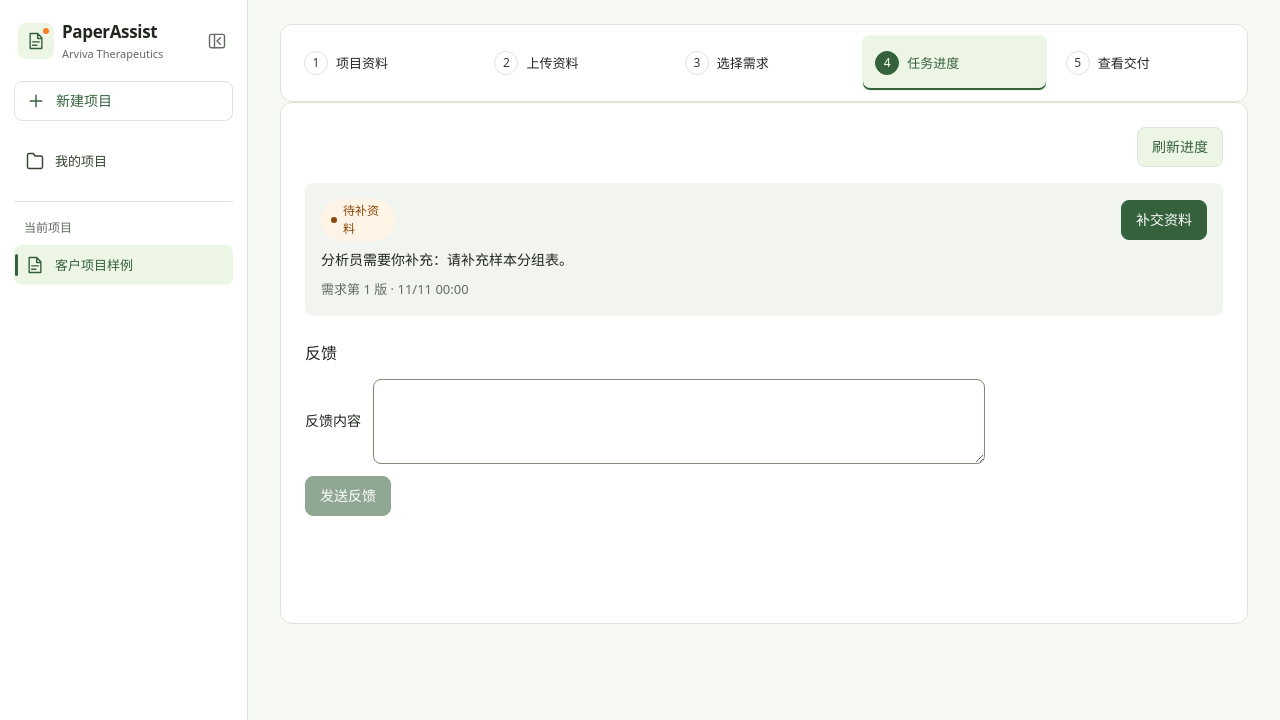
it: creates a customer project, opens five steps, and sends feedback on a published delivery
Earlier steps of the test are not shown.
Later steps or results of the test are not shown.
Expected: the text "待补资料" is shown, top-left (321, 199), bottom-right (395, 241)
Expected: the text "请补充样本分组表。" is shown, top-left (447, 250), bottom-right (573, 269)
Click the button "补交资料" at (1164,220), box top-left (1121, 200), bottom-right (1207, 240)
(page scrolled)
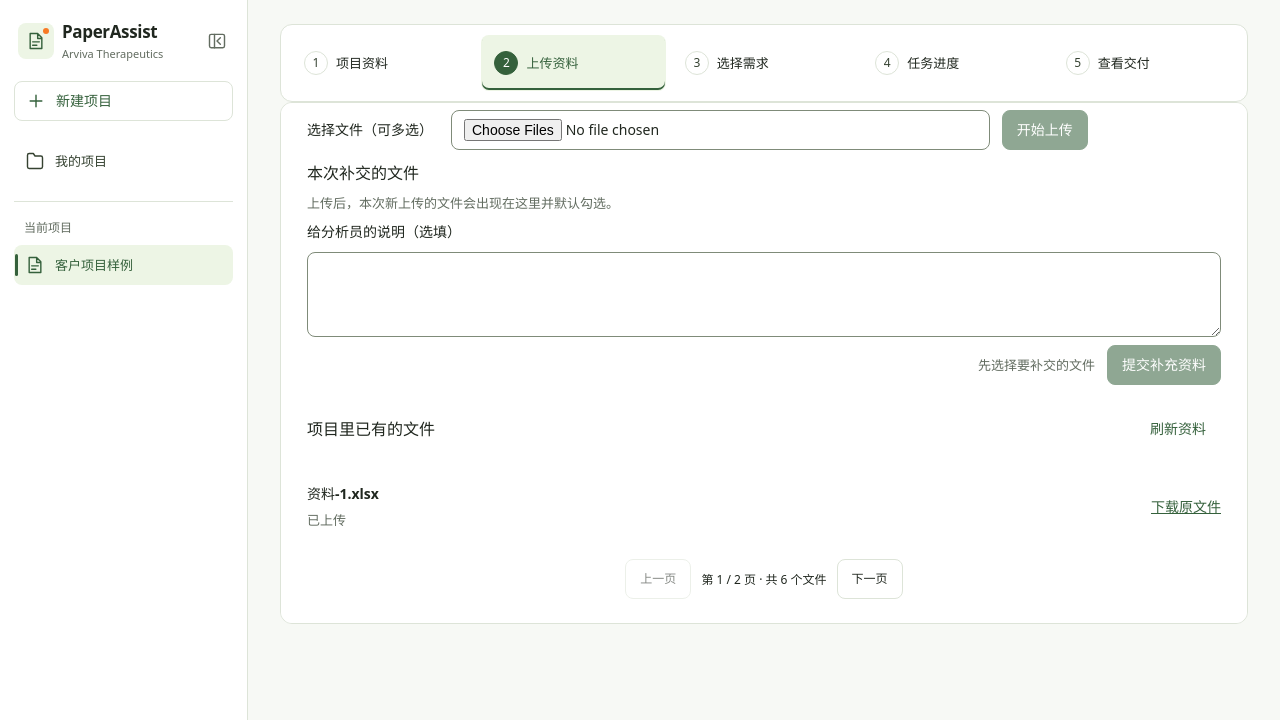
Click the button "下一页" at (870,579), box top-left (837, 559), bottom-right (903, 599)
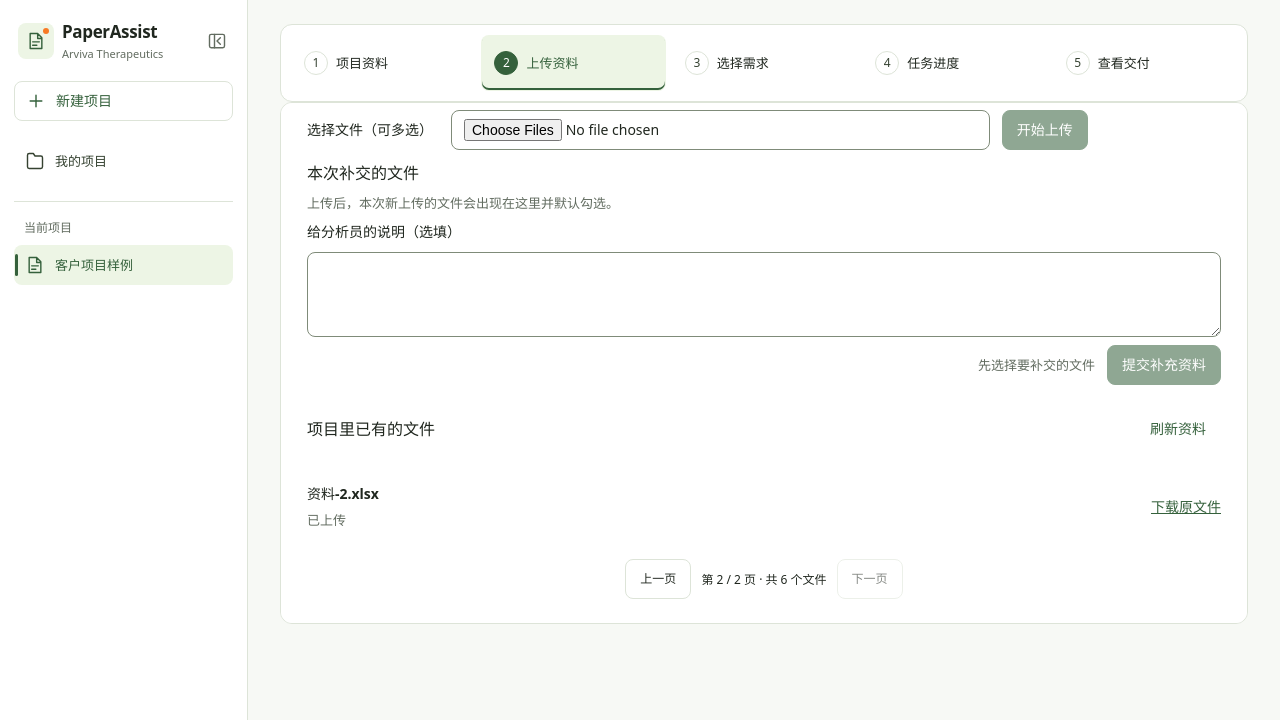
Result: the text "资料-2.xlsx" is shown at top-left (307, 484), bottom-right (379, 503)
Result: the text "第 2 / 2 页 · 共 6 个文件" is shown at top-left (701, 570), bottom-right (827, 589)
Click the button "5 查看交付" at (1145,63), box top-left (1053, 35), bottom-right (1237, 91)
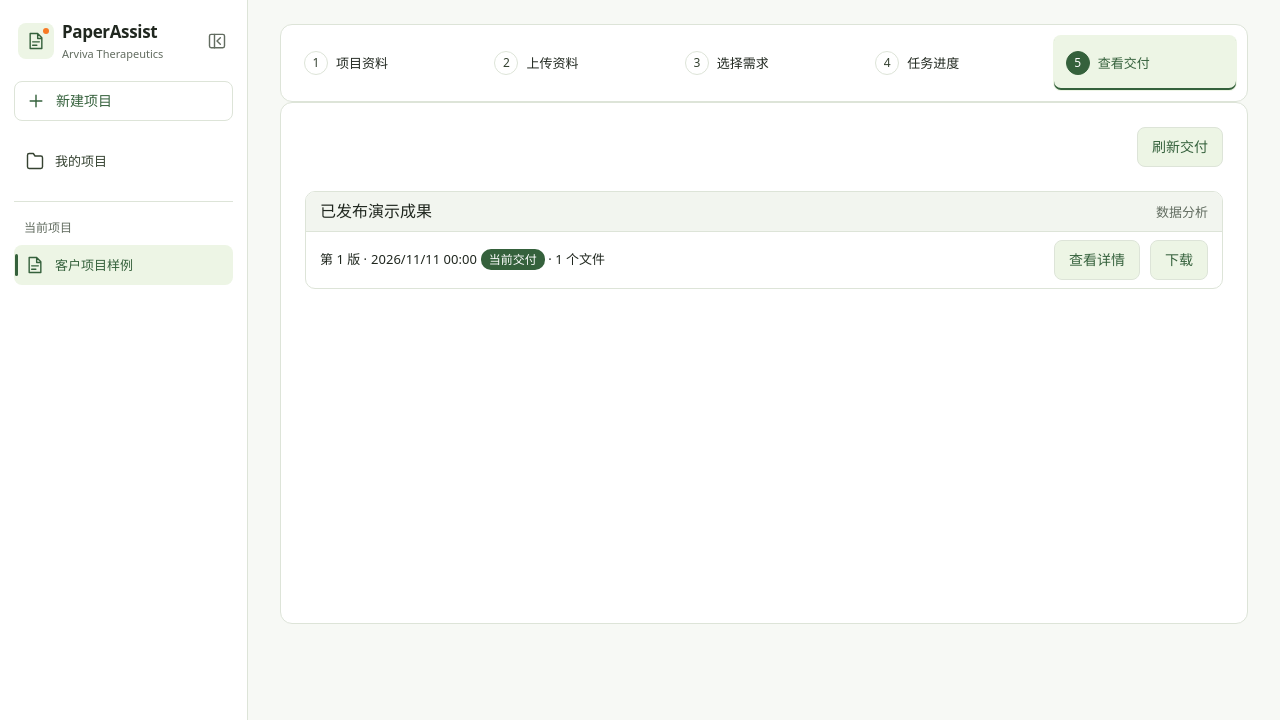
Click the button with aria-label "查看交付 已发布演示成果" at (1097,260), box top-left (1054, 240), bottom-right (1140, 280)
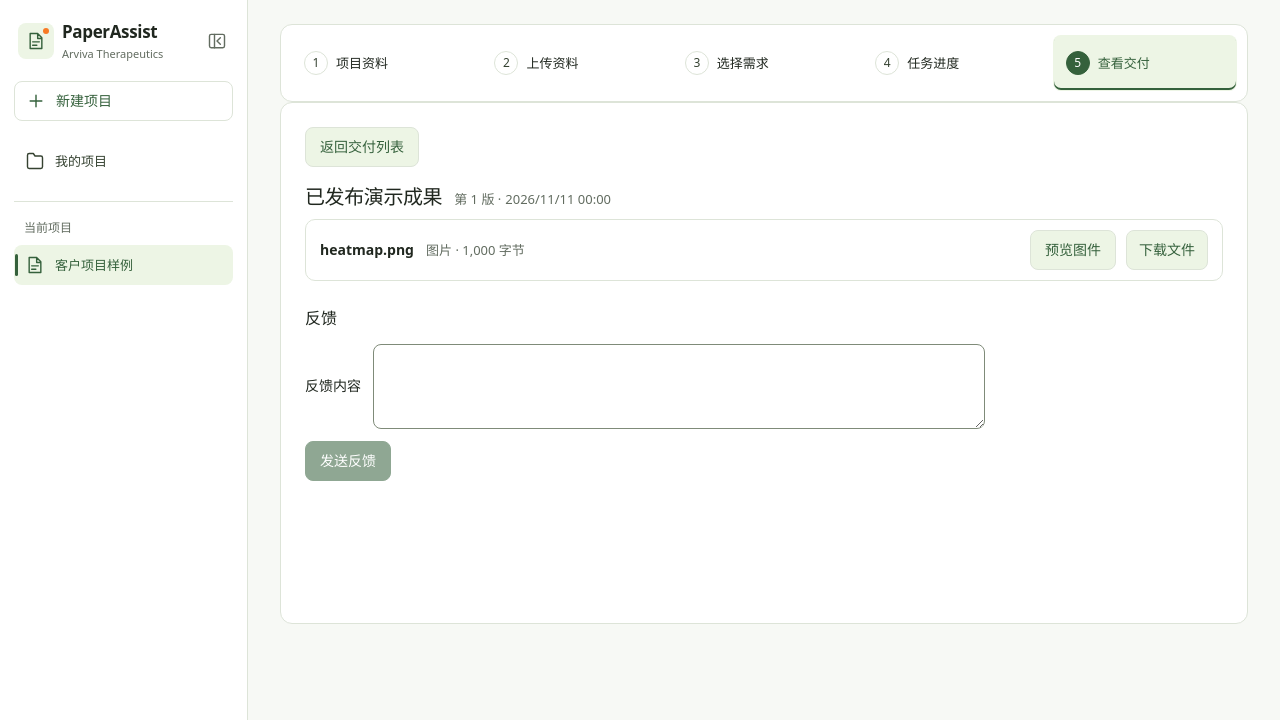
Type "热图配色清晰。" into the text box labelled "反馈内容" at (679,386), box top-left (373, 344), bottom-right (985, 429)
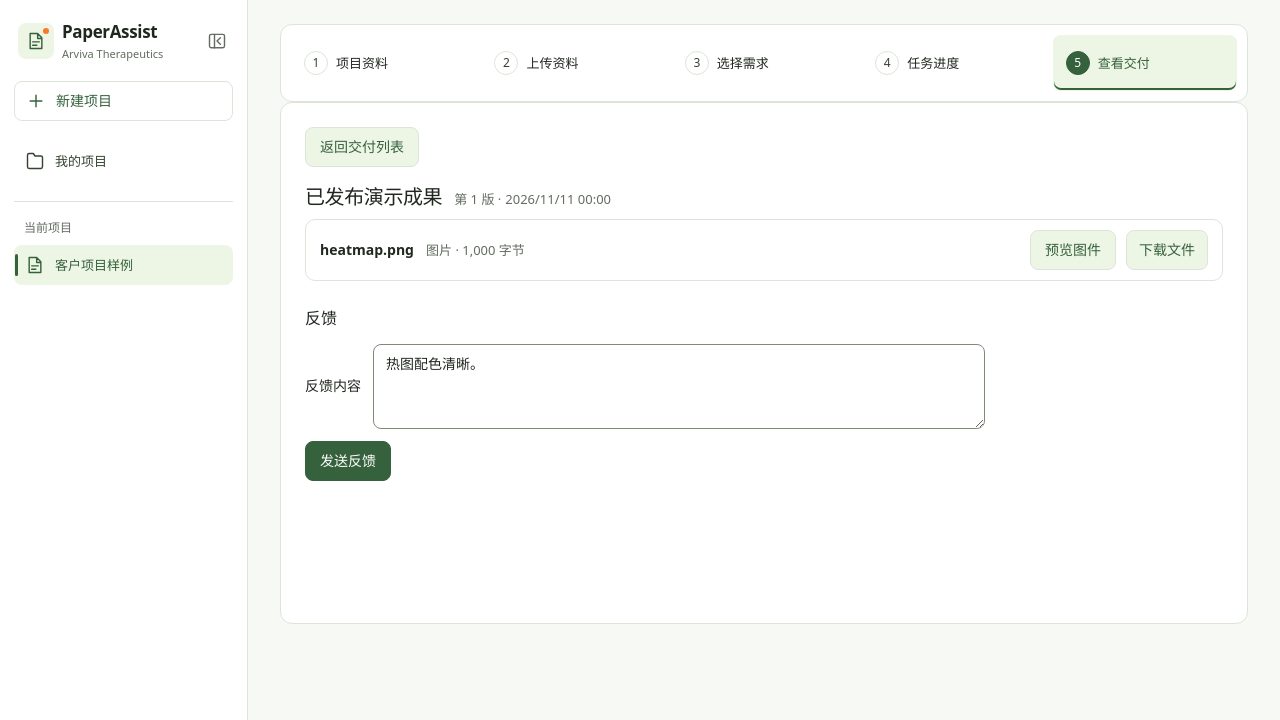
Click the button "发送反馈" at (348,461), box top-left (305, 441), bottom-right (391, 481)
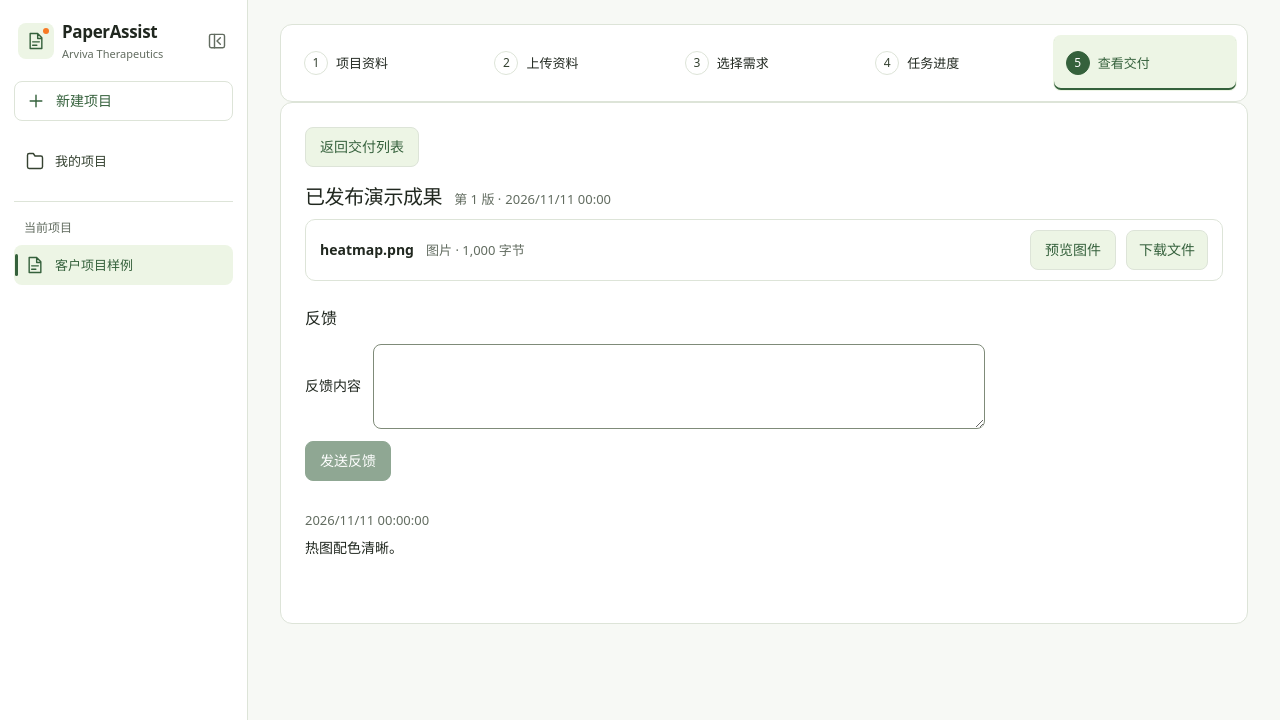
Result: the text "热图配色清晰。" is shown at top-left (305, 538), bottom-right (403, 557)
